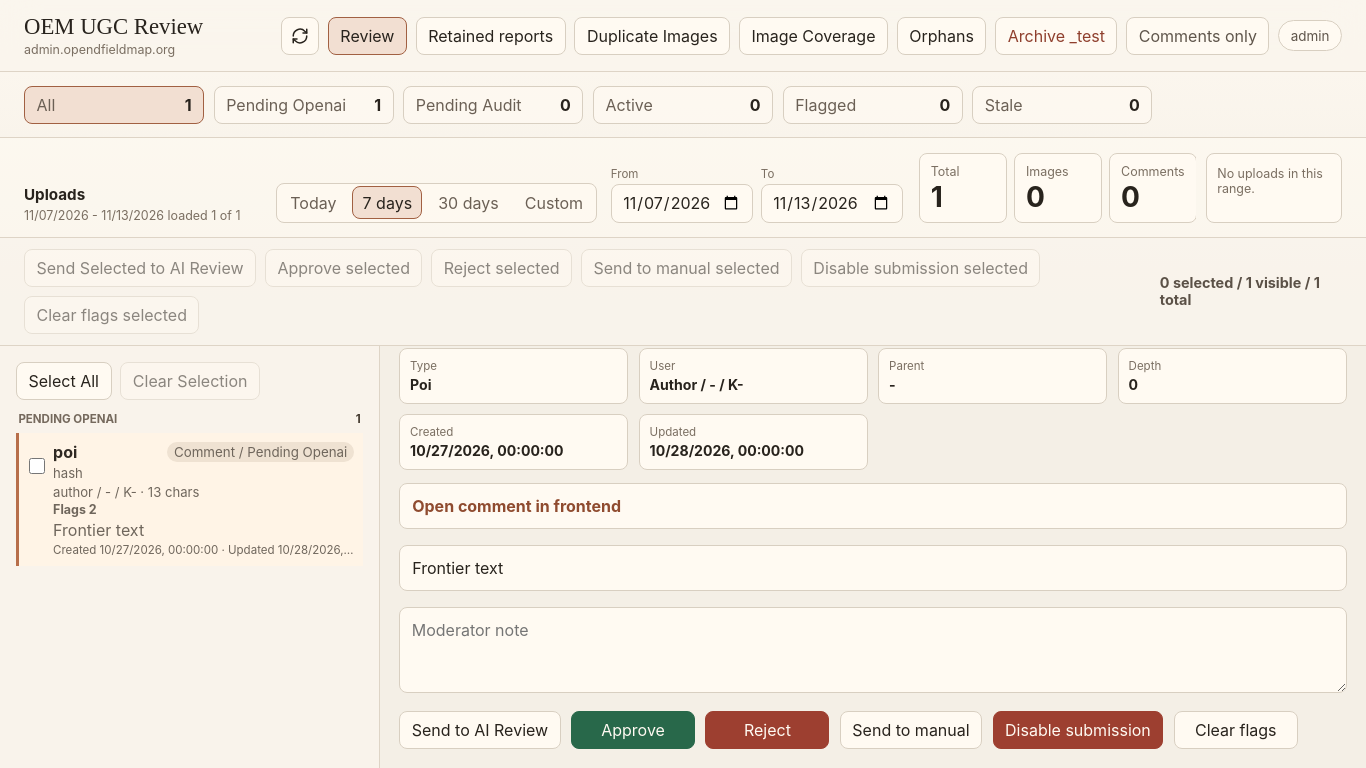
Test: exposes 422 without legacy fallback and refreshes a stale single review before a new click
The image size is (1366, 768).
(page scrolled)
What coordinates should you click on to do the following:
click the button "Send to manual"
I would click on:
 (911, 730)
Its box is [840,711,982,749].
(page scrolled)
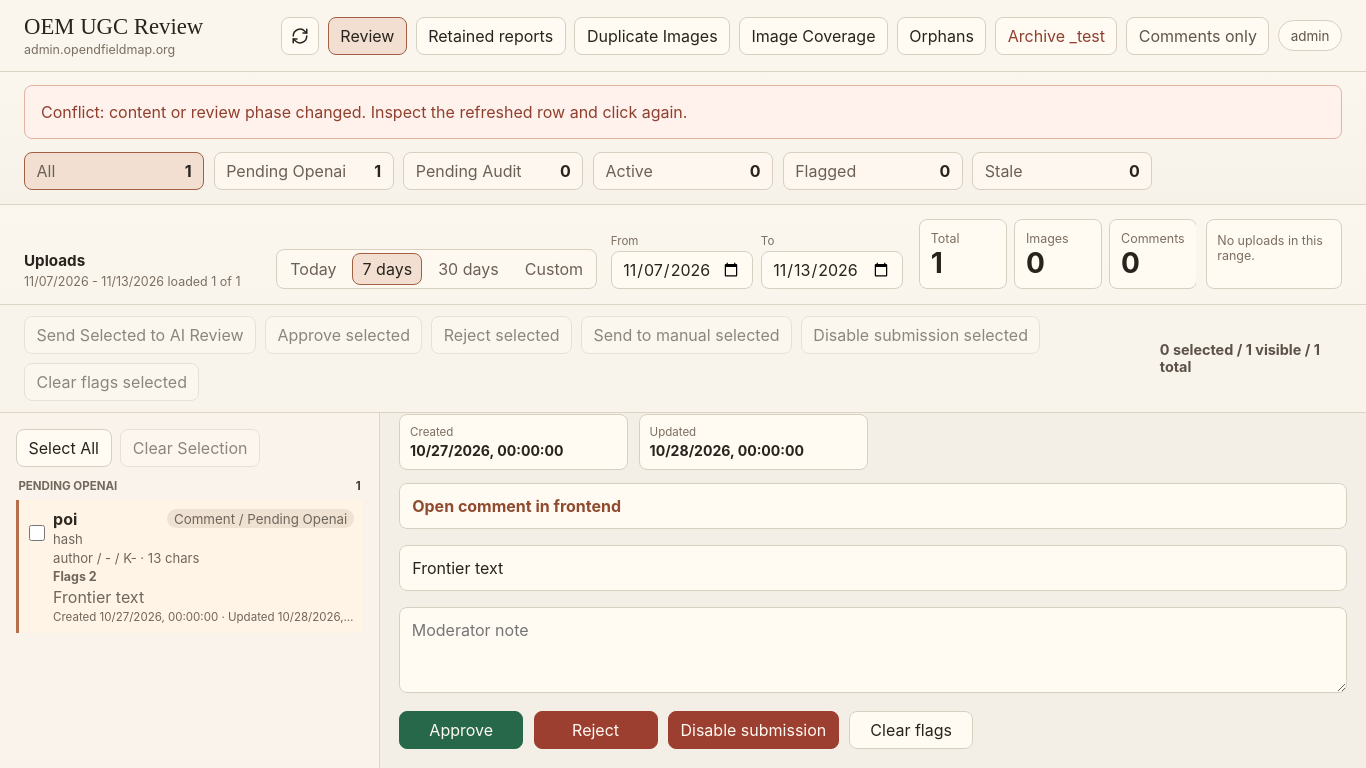
Expected: the text "Conflict:" is shown, [41,102,687,122]
What coordinates should you click on to do the following:
click the button "Reject"
I would click on:
 (596, 730)
Its box is [534,711,658,749].
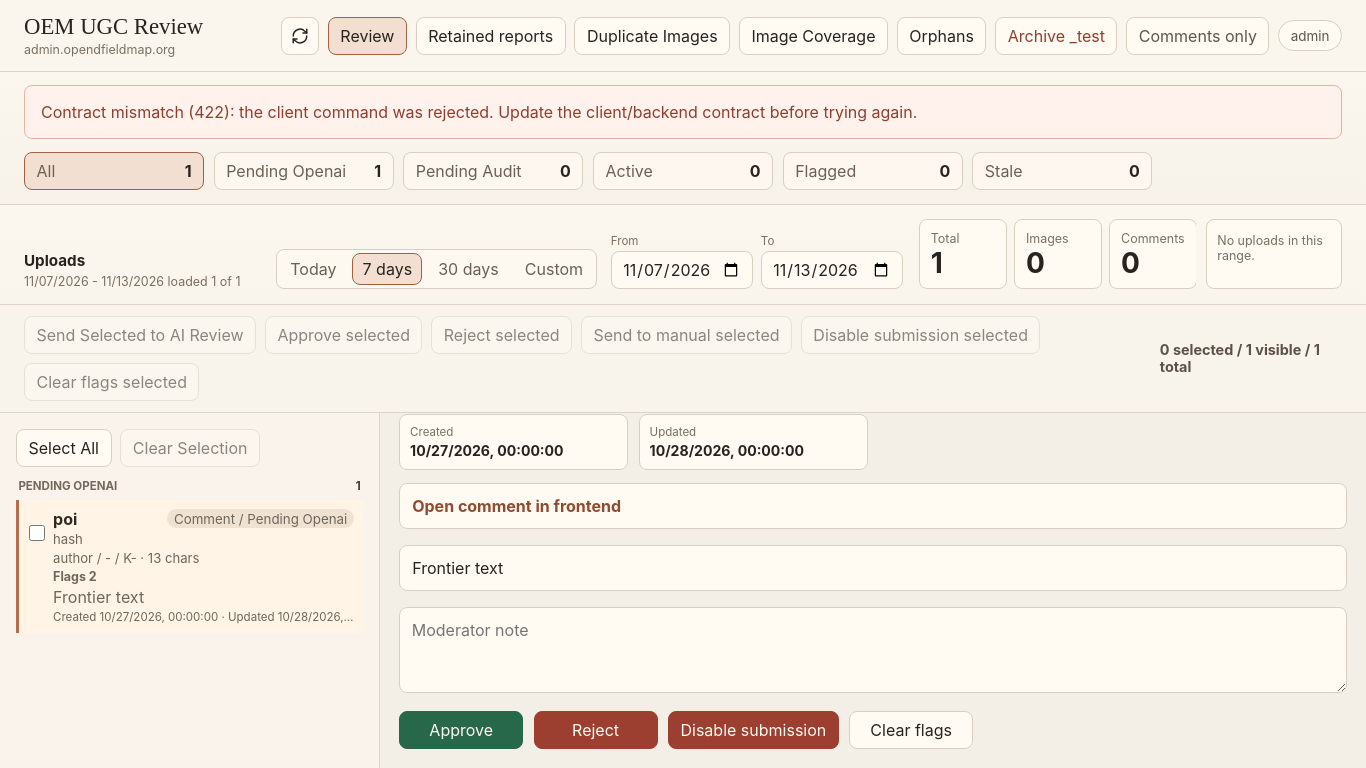
Expected: the text "Contract mismatch (422)" is shown, [41,102,917,122]
